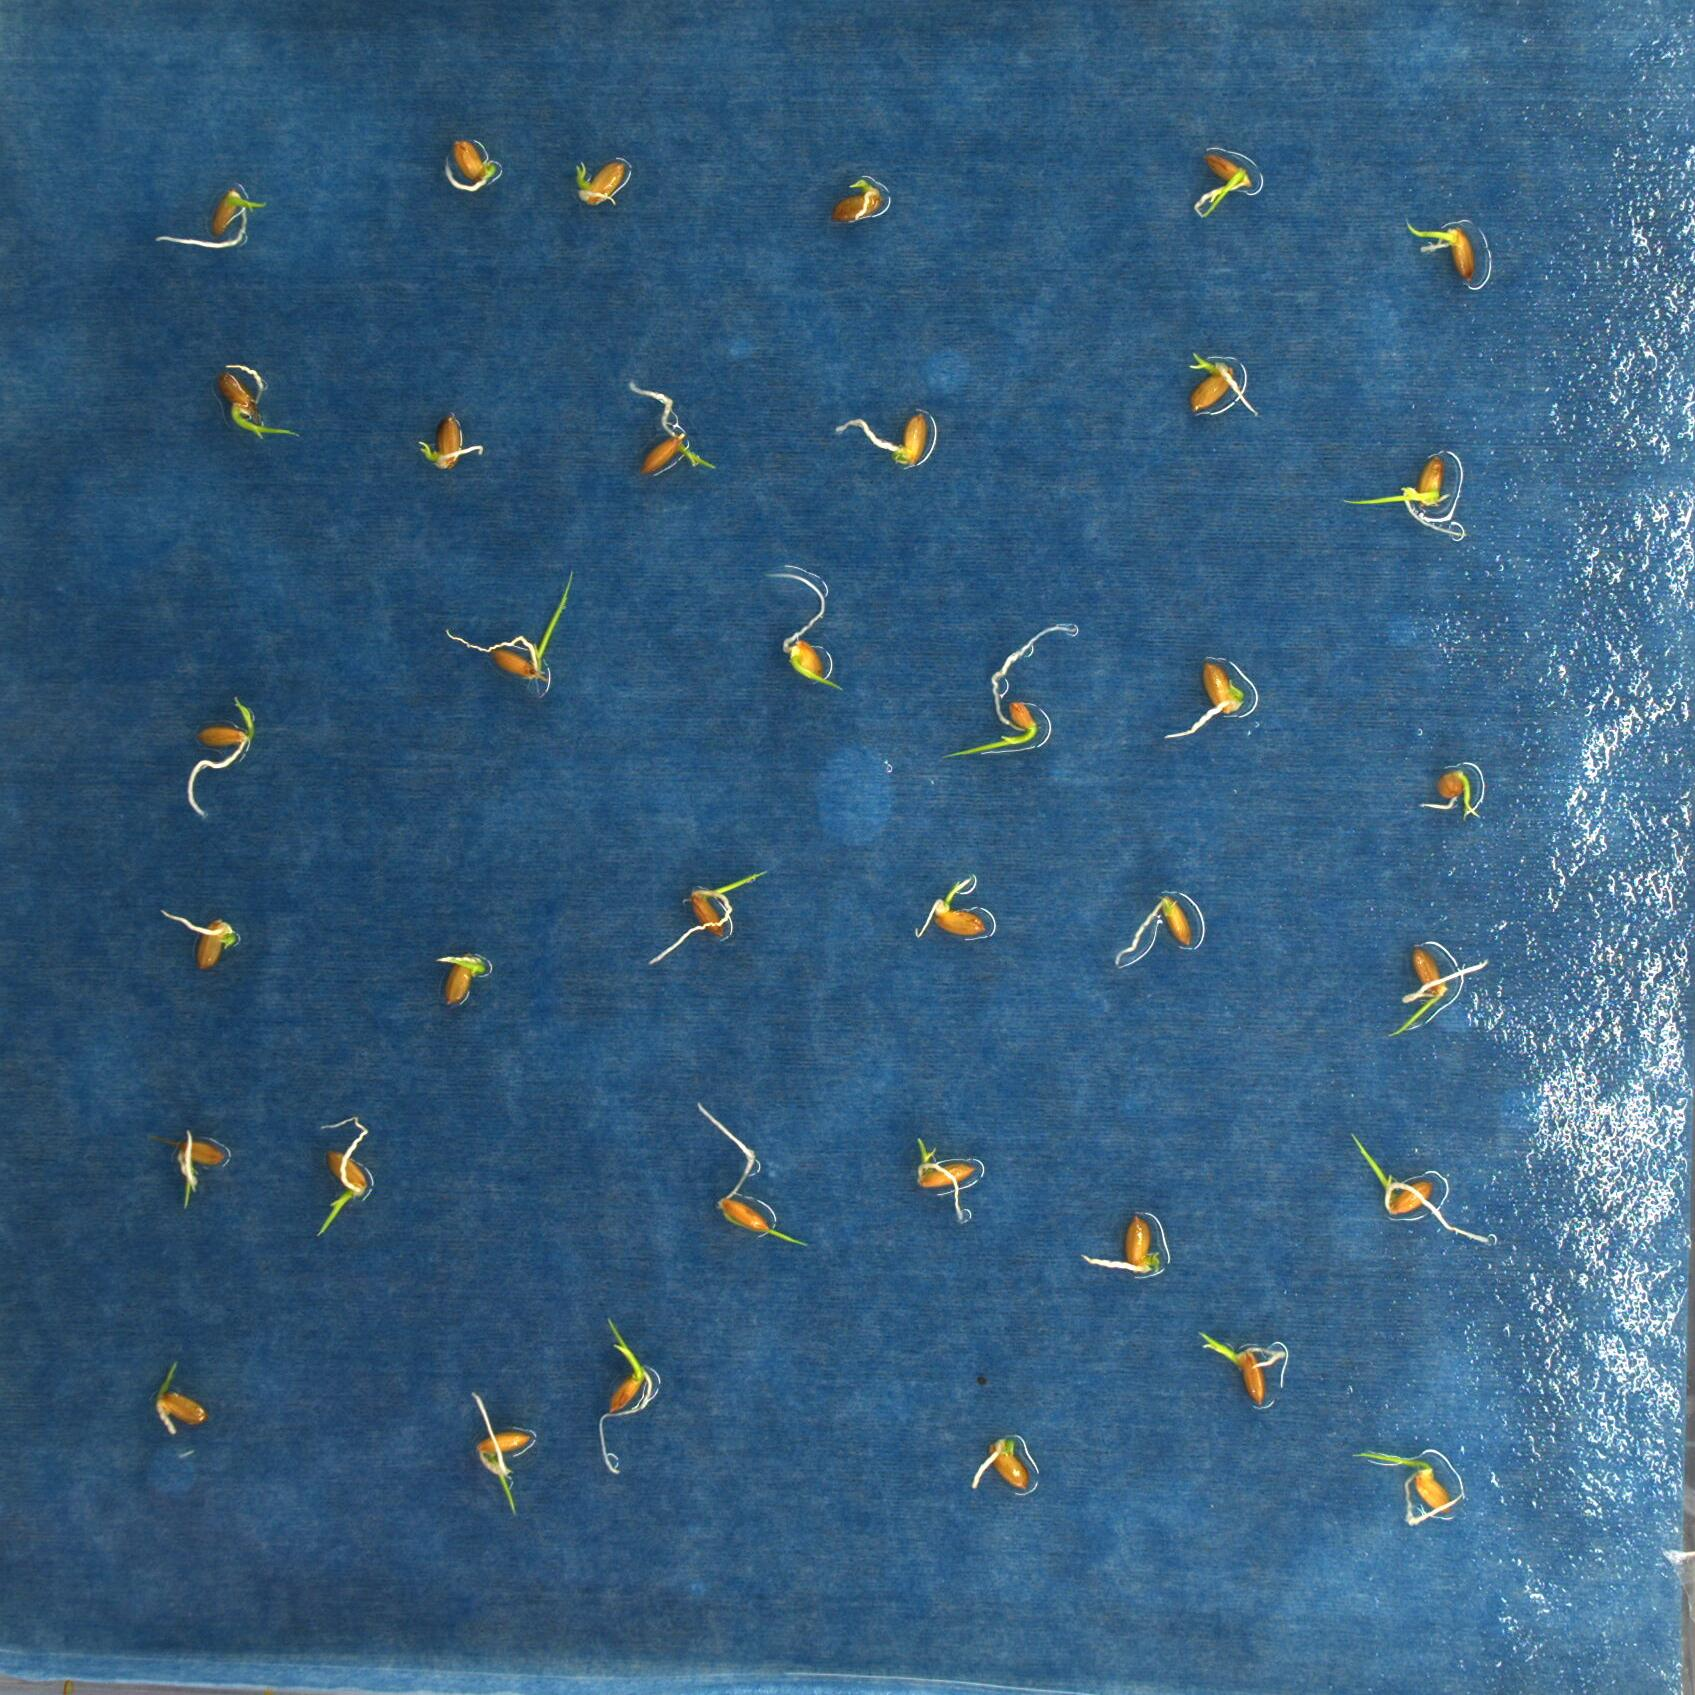not sprout: (1164, 660, 1246, 740), (1113, 893, 1195, 969), (834, 410, 934, 467), (1080, 1211, 1164, 1277), (158, 905, 241, 970), (970, 1433, 1037, 1495), (421, 414, 484, 469)
sprout: (941, 622, 1076, 761), (1346, 1130, 1493, 1246), (694, 1101, 804, 1248), (444, 570, 577, 685), (646, 865, 767, 969), (1344, 452, 1465, 537), (1388, 941, 1492, 1038), (765, 568, 844, 692), (598, 1316, 653, 1475), (1350, 1448, 1464, 1526), (186, 695, 258, 818), (627, 379, 716, 475), (469, 1391, 534, 1515), (152, 183, 264, 245), (317, 1118, 373, 1240), (1198, 1330, 1287, 1406), (155, 1125, 227, 1211), (913, 1135, 979, 1225), (217, 366, 298, 438), (914, 875, 990, 939), (1184, 346, 1256, 413), (1403, 216, 1478, 279), (154, 1361, 208, 1433), (1194, 151, 1251, 217), (441, 137, 501, 192), (435, 947, 487, 1010), (1416, 768, 1479, 820), (574, 155, 629, 206), (830, 179, 883, 227)
